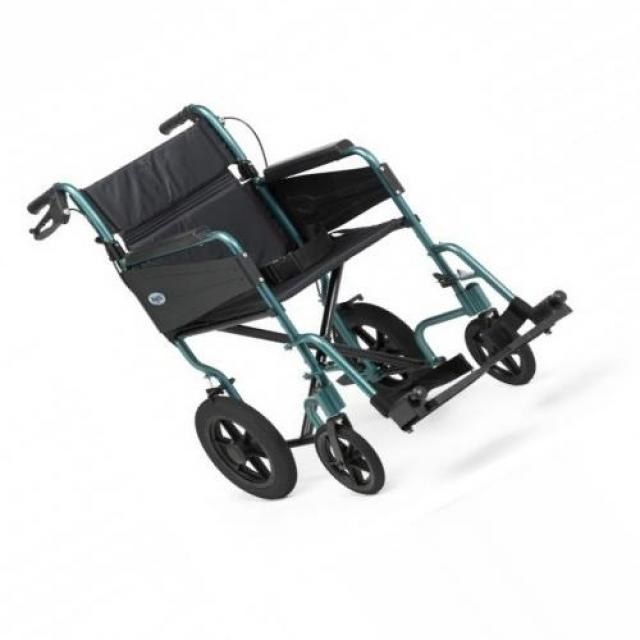wheelchair: (23, 90, 586, 512)
